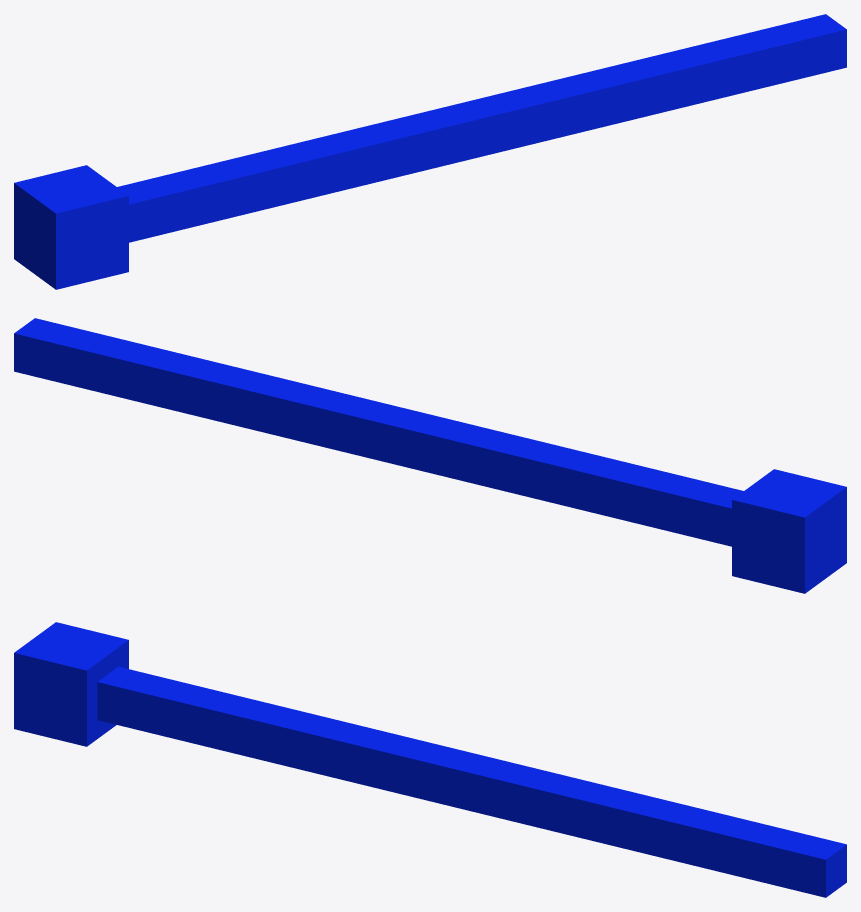
Rendered from BlueArow.fbx.
3 views of the same model, one above another, from view 1: azimuth 30°, elevation 25°; view 2: azimuth 150°, elevation 25°; view 3: azimuth 330°, elevation 25° (orthographic).
Visible parts, largest first — view 1: 立方体; view 2: 立方体; view 3: 立方体.
Boxes of the visible parts, x1,y1,x2,y2 form: 立方体: [14, 14, 846, 289]; 立方体: [14, 318, 846, 593]; 立方体: [14, 622, 846, 897].
Size of the model in its own units: 220 by 20 by 20.
